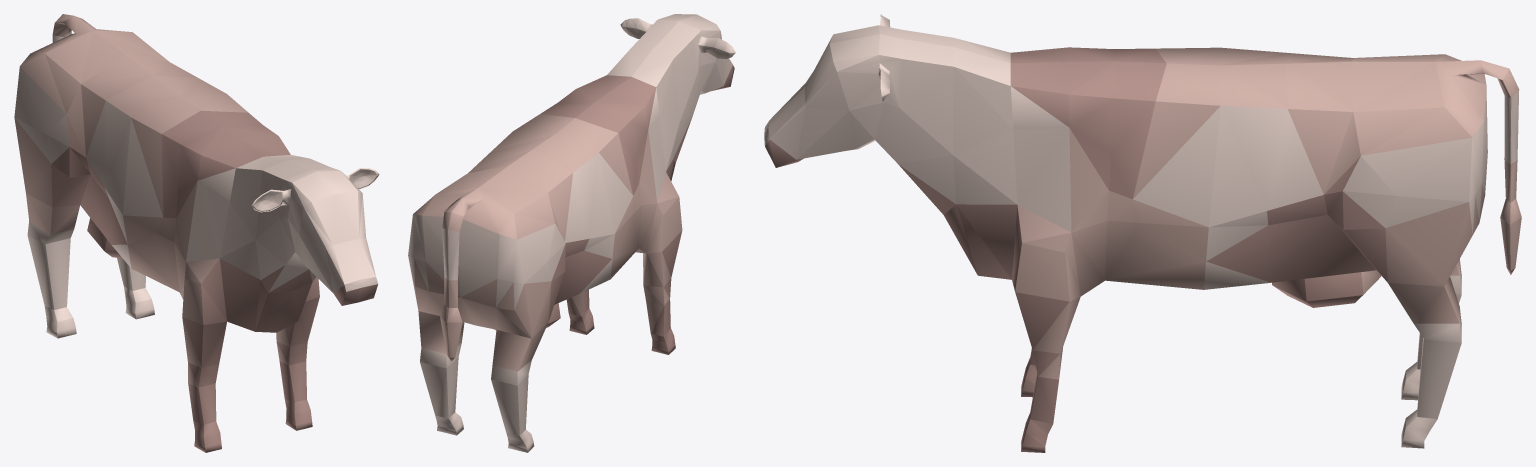
Rendered from veau.glb.
3 renders of one model, left to right at view 1: azimuth 30°, elevation 25°; view 2: azimuth 150°, elevation 25°; view 3: azimuth 270°, elevation 25°, orthographic. The views are drawn at different scales.
Visible parts, largest first — view 1: Cow; view 2: Cow; view 3: Cow.
Boxes of the visible parts, left/top/right/bottom form: Cow: left=14, top=14, right=379, bottom=452; Cow: left=408, top=14, right=735, bottom=452; Cow: left=764, top=14, right=1521, bottom=452.
Bounding box in the file's own units: 2.25 × 5.15 × 9.17.
